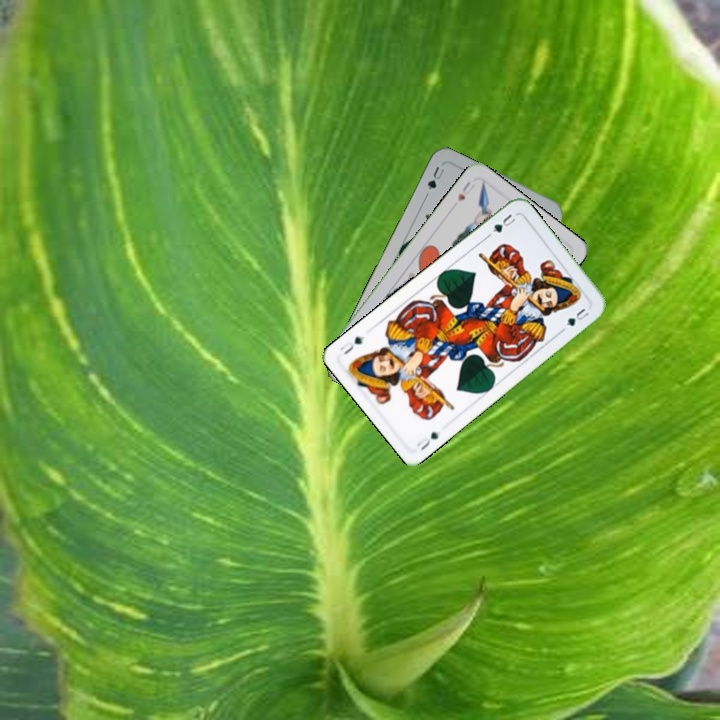GU: (484, 210, 518, 239), (413, 428, 442, 453), (423, 162, 447, 192)
HU: (453, 177, 477, 204)
